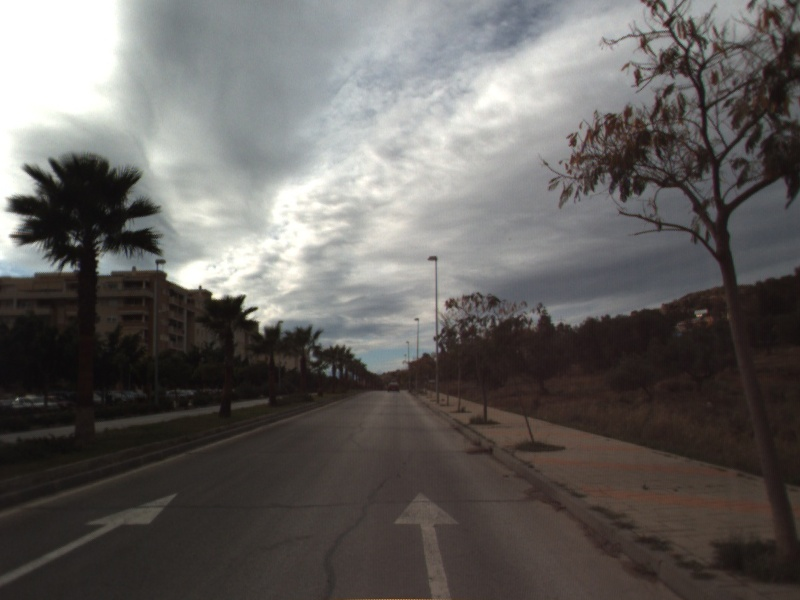STRAIGHT: (1, 491, 181, 588), (391, 489, 462, 600)
